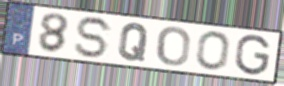8: (38, 12, 70, 55)
G: (233, 34, 272, 77)
O: (156, 26, 192, 67), (196, 30, 231, 72)
Q: (117, 22, 151, 63)
S: (73, 15, 115, 60)
